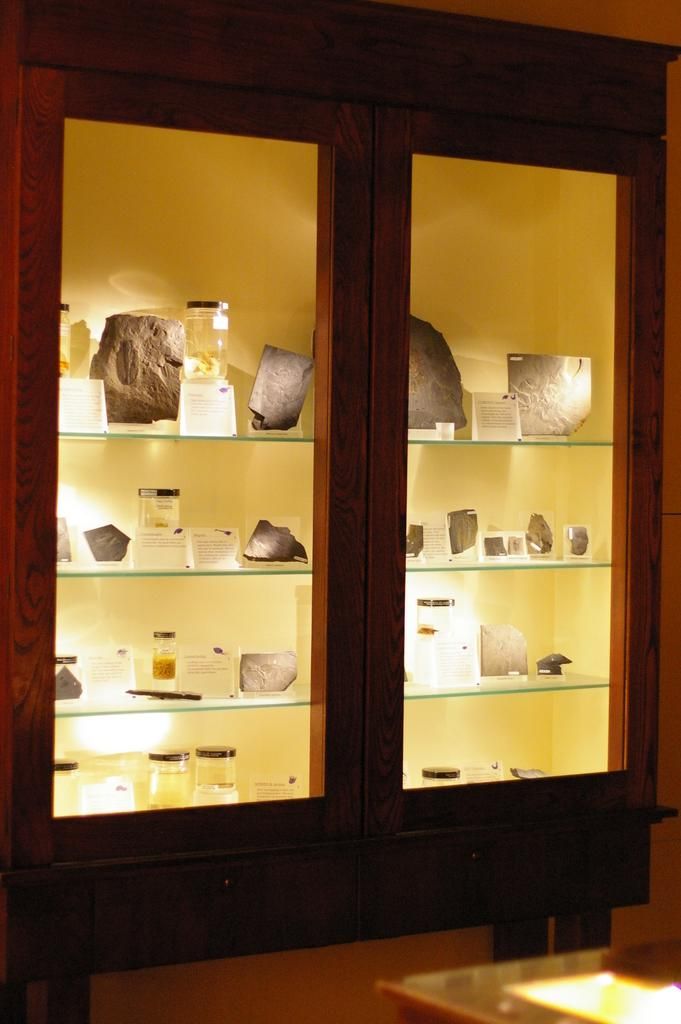cabinet_door: (34, 68, 358, 835), (370, 111, 639, 812)
